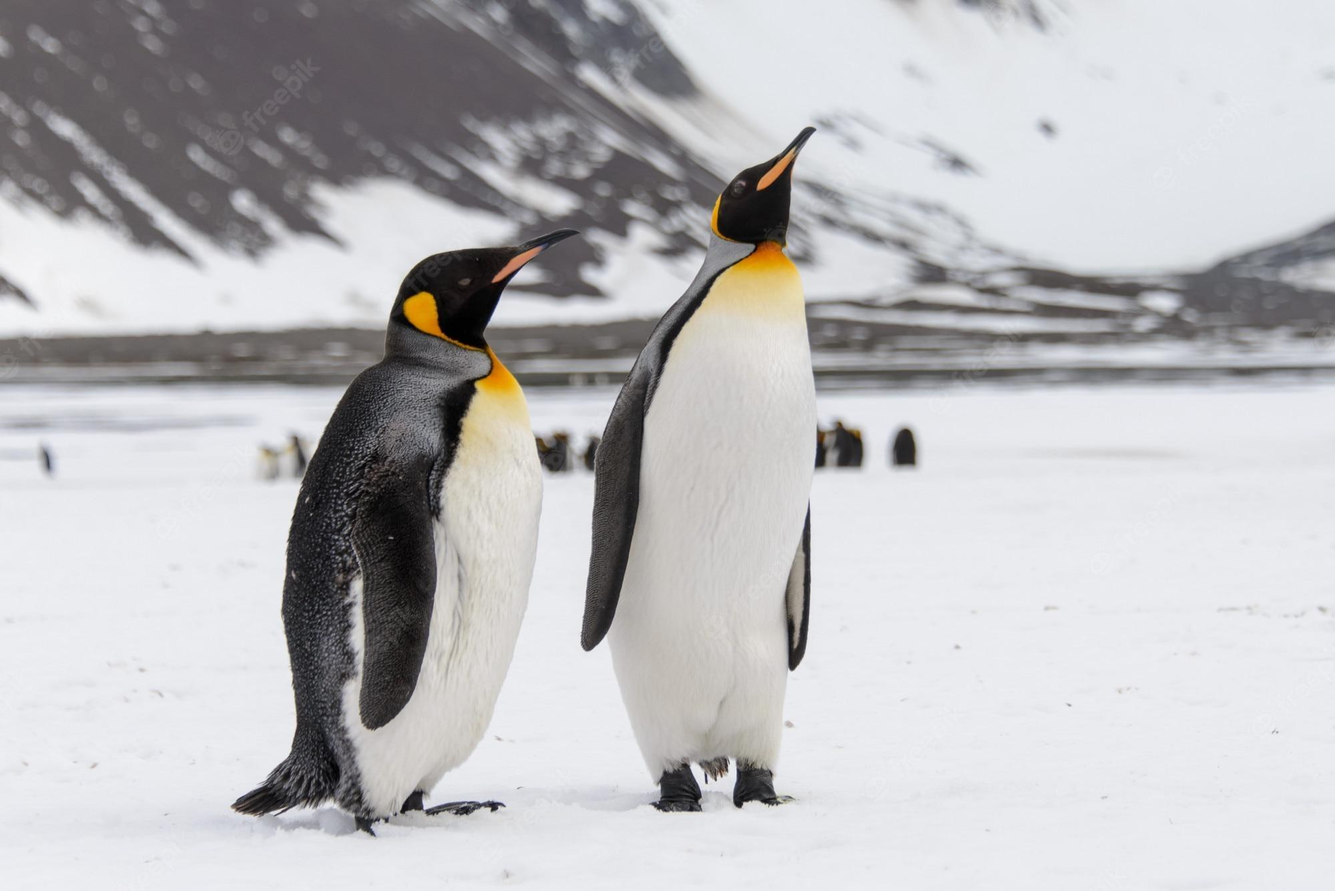Penguin: (235, 230, 573, 832), (581, 127, 816, 810)
